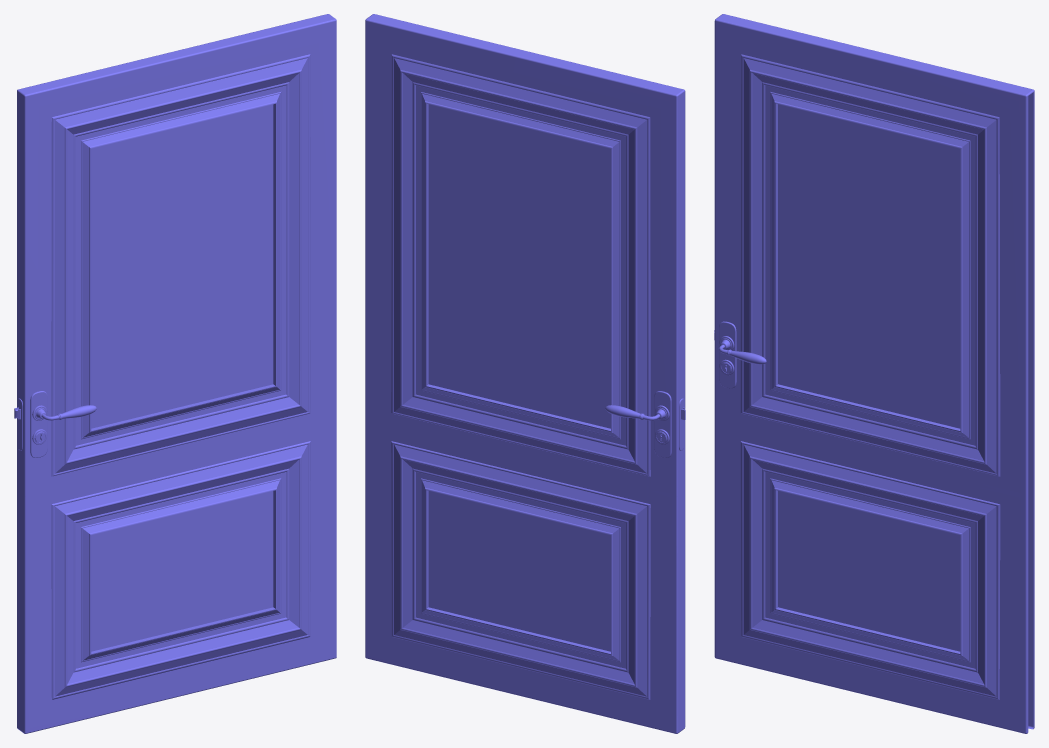
Rendered from SM_Door_Double_Sided_New_Left.fbx.
The picture shows the model from 3 angles, left to right: view 1: azimuth 30°, elevation 25°; view 2: azimuth 150°, elevation 25°; view 3: azimuth 330°, elevation 25°; orthographic projection.
Parts seen in each view (by area): view 1: Door; view 2: Door; view 3: Door.
Part boxes in pixels (bbox=[...]): Door: bbox=[14, 14, 336, 733]; Door: bbox=[365, 14, 685, 733]; Door: bbox=[714, 14, 1034, 733].
Bounding box in the file's own units: 97.6 × 188 × 17.61.
